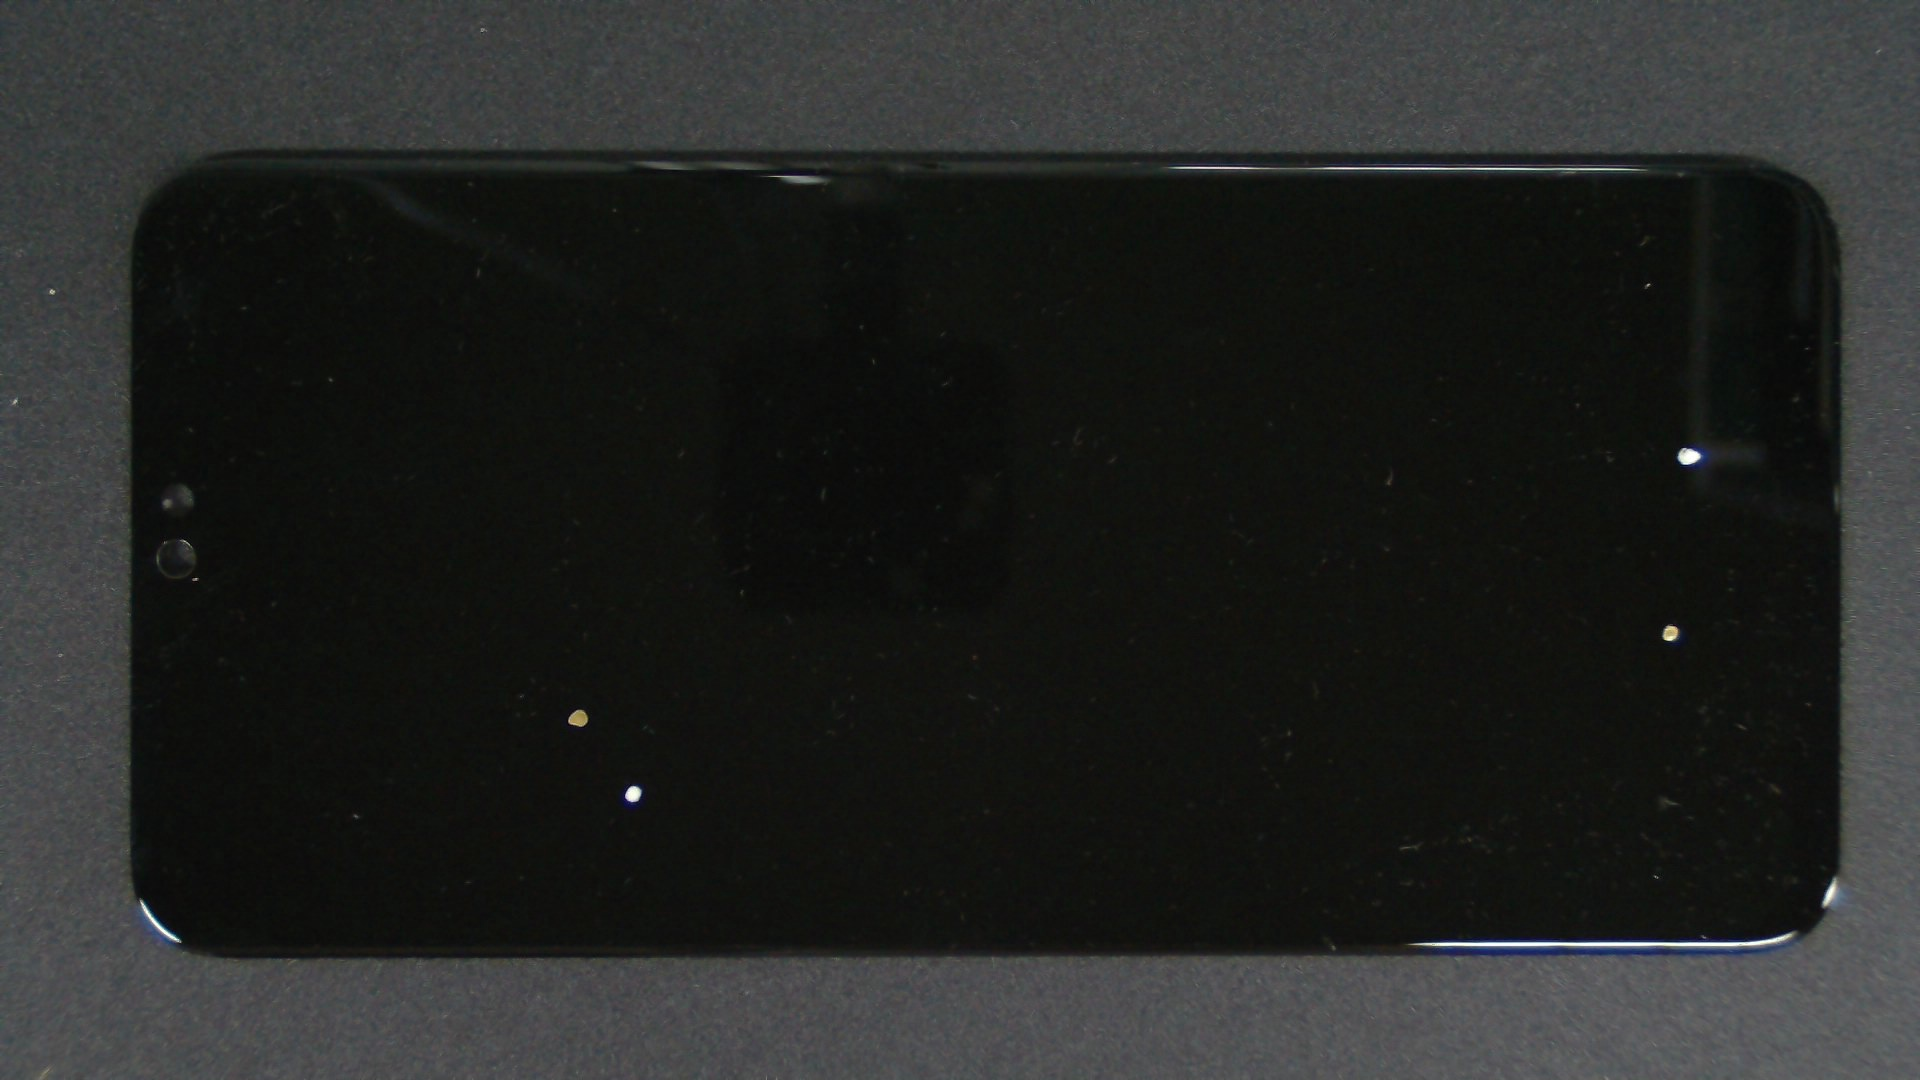oil: (835, 310, 1920, 935), (843, 223, 1920, 670), (316, 392, 948, 1080), (290, 353, 868, 1063)
